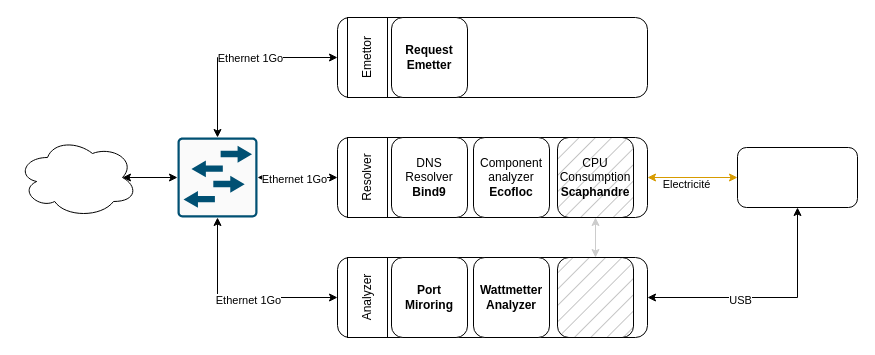
The diagram is 875 pixels wide and 355 high, and some of its shapes have lost their labels. Each missing label, with the centre of its shape:
Internet: [77,177]
Log Analyzer Grafana: [595,297]
Wattmeter: [797,177]
